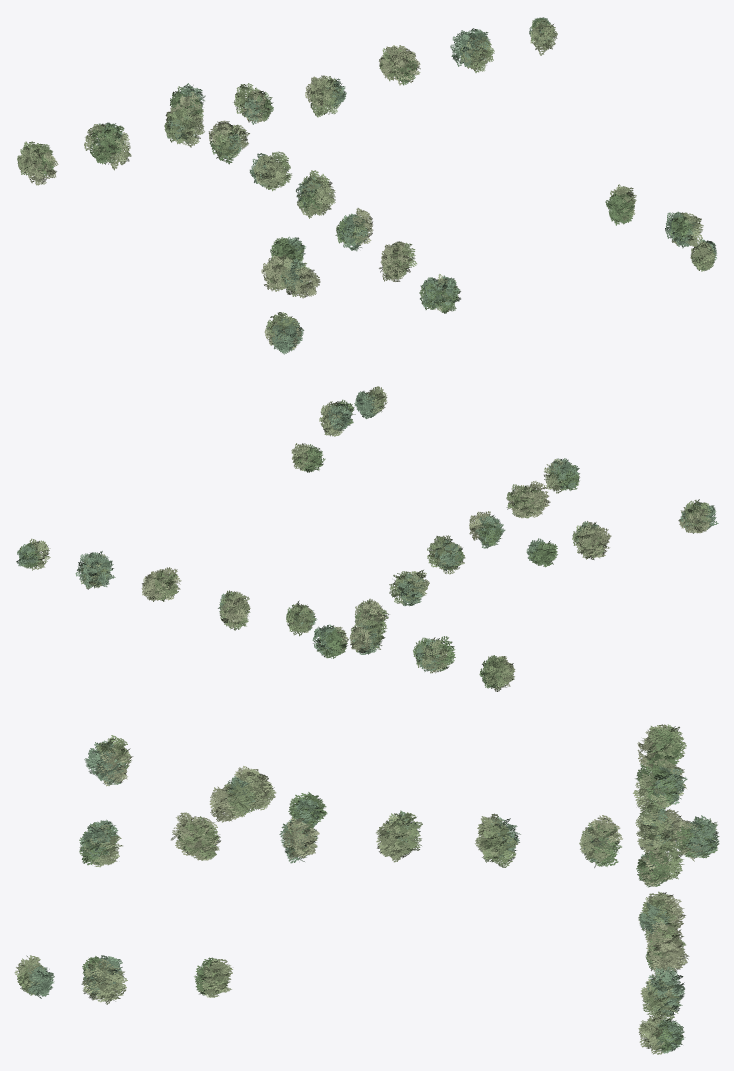
Rendered from campus-tree-2_-4-near.glb.
3 renders of one model, top to bottom at view 1: azimuth 30°, elevation 25°; view 2: azimuth 150°, elevation 25°; view 3: azimuth 270°, elevation 25°, orthographic. The views are drawn at different scales.
Visible parts, largest first — view 1: Campus leaf canopy; view 2: Campus leaf canopy; view 3: Campus leaf canopy.
Boxes of the visible parts, x1,y1,x2,y2 form: Campus leaf canopy: [17, 17, 716, 354]; Campus leaf canopy: [16, 386, 718, 691]; Campus leaf canopy: [14, 724, 719, 1054].
Size of the model in its own units: 82.35 by 7.63 by 78.84.
1 material, 1 textured.
